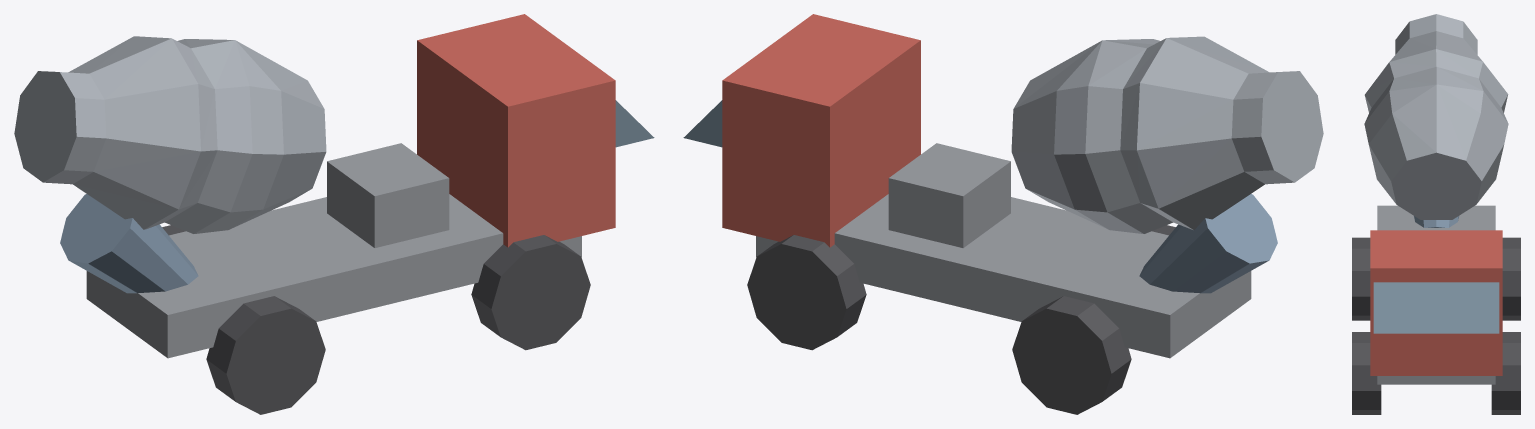
The picture shows the model from 3 angles, left to right: view 1: azimuth 30°, elevation 25°; view 2: azimuth 150°, elevation 25°; view 3: azimuth 270°, elevation 25°; orthographic projection. The views are drawn at different scales.
Parts seen in each view (by area): view 1: part3, part1, part0, part9, part7, part4, part5, part2; view 2: part3, part1, part0, part8, part6, part4, part5, part2; view 3: part3, part1, part2, part0, part6, part7, part8, part9, part5.
Boxes of the visible parts, x1=… form: part3: x1=14, y1=36, x2=326, y2=233; part1: x1=417, y1=14, x2=615, y2=247; part0: x1=86, y1=194, x2=581, y2=358; part9: x1=206, y1=296, x2=325, y2=414; part7: x1=471, y1=235, x2=590, y2=350; part4: x1=327, y1=143, x2=449, y2=247; part5: x1=60, y1=194, x2=198, y2=293; part2: x1=615, y1=100, x2=654, y2=147; part3: x1=1011, y1=36, x2=1323, y2=233; part1: x1=722, y1=14, x2=920, y2=247; part0: x1=756, y1=194, x2=1251, y2=358; part8: x1=1012, y1=296, x2=1131, y2=414; part6: x1=747, y1=235, x2=866, y2=350; part4: x1=888, y1=143, x2=1010, y2=247; part5: x1=1139, y1=194, x2=1277, y2=293; part2: x1=683, y1=100, x2=722, y2=147; part3: x1=1364, y1=14, x2=1508, y2=219; part1: x1=1370, y1=230, x2=1502, y2=375; part2: x1=1373, y1=282, x2=1499, y2=333; part0: x1=1377, y1=205, x2=1495, y2=384; part6: x1=1491, y1=332, x2=1520, y2=414; part7: x1=1352, y1=332, x2=1381, y2=414; part8: x1=1502, y1=237, x2=1520, y2=320; part9: x1=1352, y1=237, x2=1370, y2=320; part5: x1=1414, y1=216, x2=1458, y2=227.
Size of the model in its own units: 6.99 by 3.95 by 2.42.
